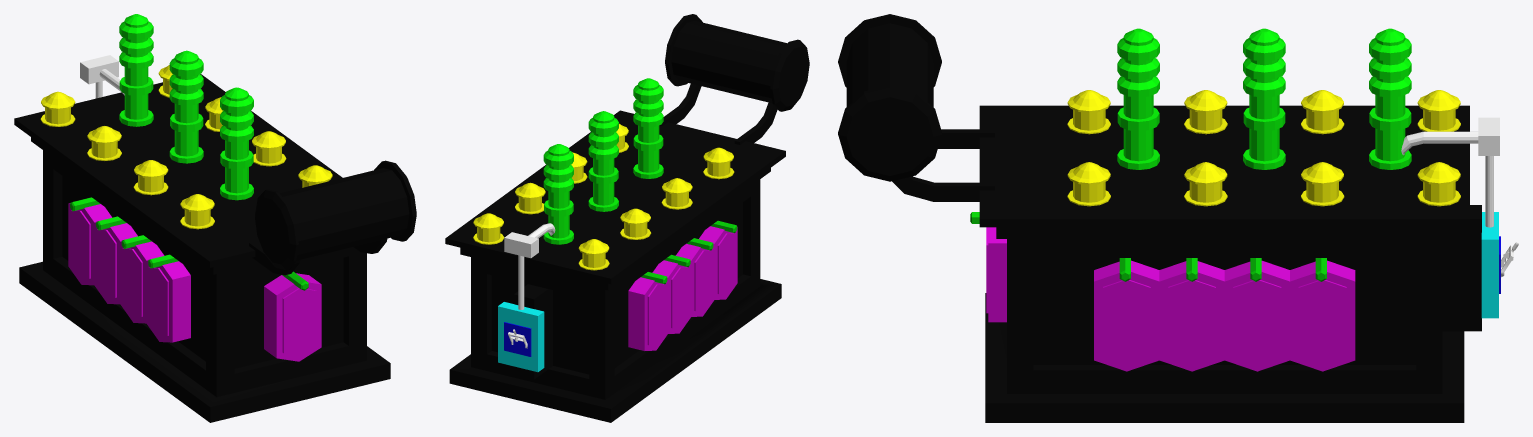
The model's file is Transformador.fbx.
3 renders of one model, left to right at view 1: azimuth 30°, elevation 25°; view 2: azimuth 150°, elevation 25°; view 3: azimuth 270°, elevation 25°, orthographic. The views are drawn at different scales.
Parts seen in each view (by area): view 1: transformador_de_potencia2:pCube1, transformador_de_potencia2:pCube1.002; view 2: transformador_de_potencia2:pCube1, transformador_de_potencia2:pCube1.001, transformador_de_potencia2:pCube1.002; view 3: transformador_de_potencia2:pCube1, transformador_de_potencia2:pCube1.002, transformador_de_potencia2:pCube1.001.
Part boxes in pixels (box(x1,y1,x2,y2)): transformador_de_potencia2:pCube1: box(14, 14, 416, 422); transformador_de_potencia2:pCube1.002: box(80, 55, 124, 98); transformador_de_potencia2:pCube1: box(445, 14, 809, 422); transformador_de_potencia2:pCube1.001: box(498, 302, 544, 372); transformador_de_potencia2:pCube1.002: box(504, 223, 555, 309); transformador_de_potencia2:pCube1: box(838, 14, 1481, 422); transformador_de_potencia2:pCube1.002: box(1401, 117, 1499, 227); transformador_de_potencia2:pCube1.001: box(1481, 212, 1500, 318).
Bounding box in the file's own units: 316 × 426 × 782.
